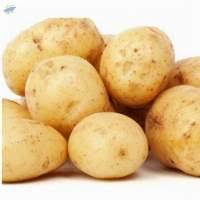potato: (100, 23, 176, 107), (67, 109, 151, 181), (26, 52, 105, 116)
